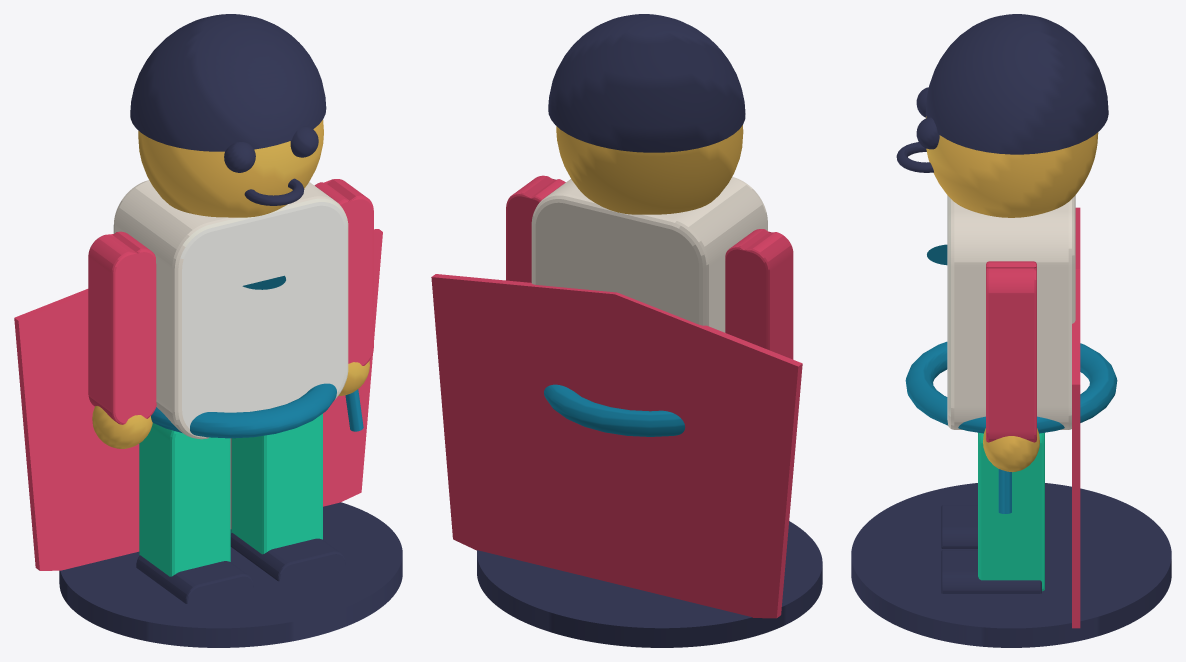
File: 1093_古文观止_赤壁赋.glb
3 renders of one model, left to right at view 1: azimuth 30°, elevation 25°; view 2: azimuth 150°, elevation 25°; view 3: azimuth 270°, elevation 25°, orthographic.
Visible parts, largest first — view 1: card_1093; view 2: card_1093; view 3: card_1093.
Boxes of the visible parts, x1,y1,x2,y2 form: card_1093: (14,14,402,647); card_1093: (431,14,822,647); card_1093: (851,14,1171,647).
Size of the model in its own units: 0.6739 by 1 by 0.5158.
